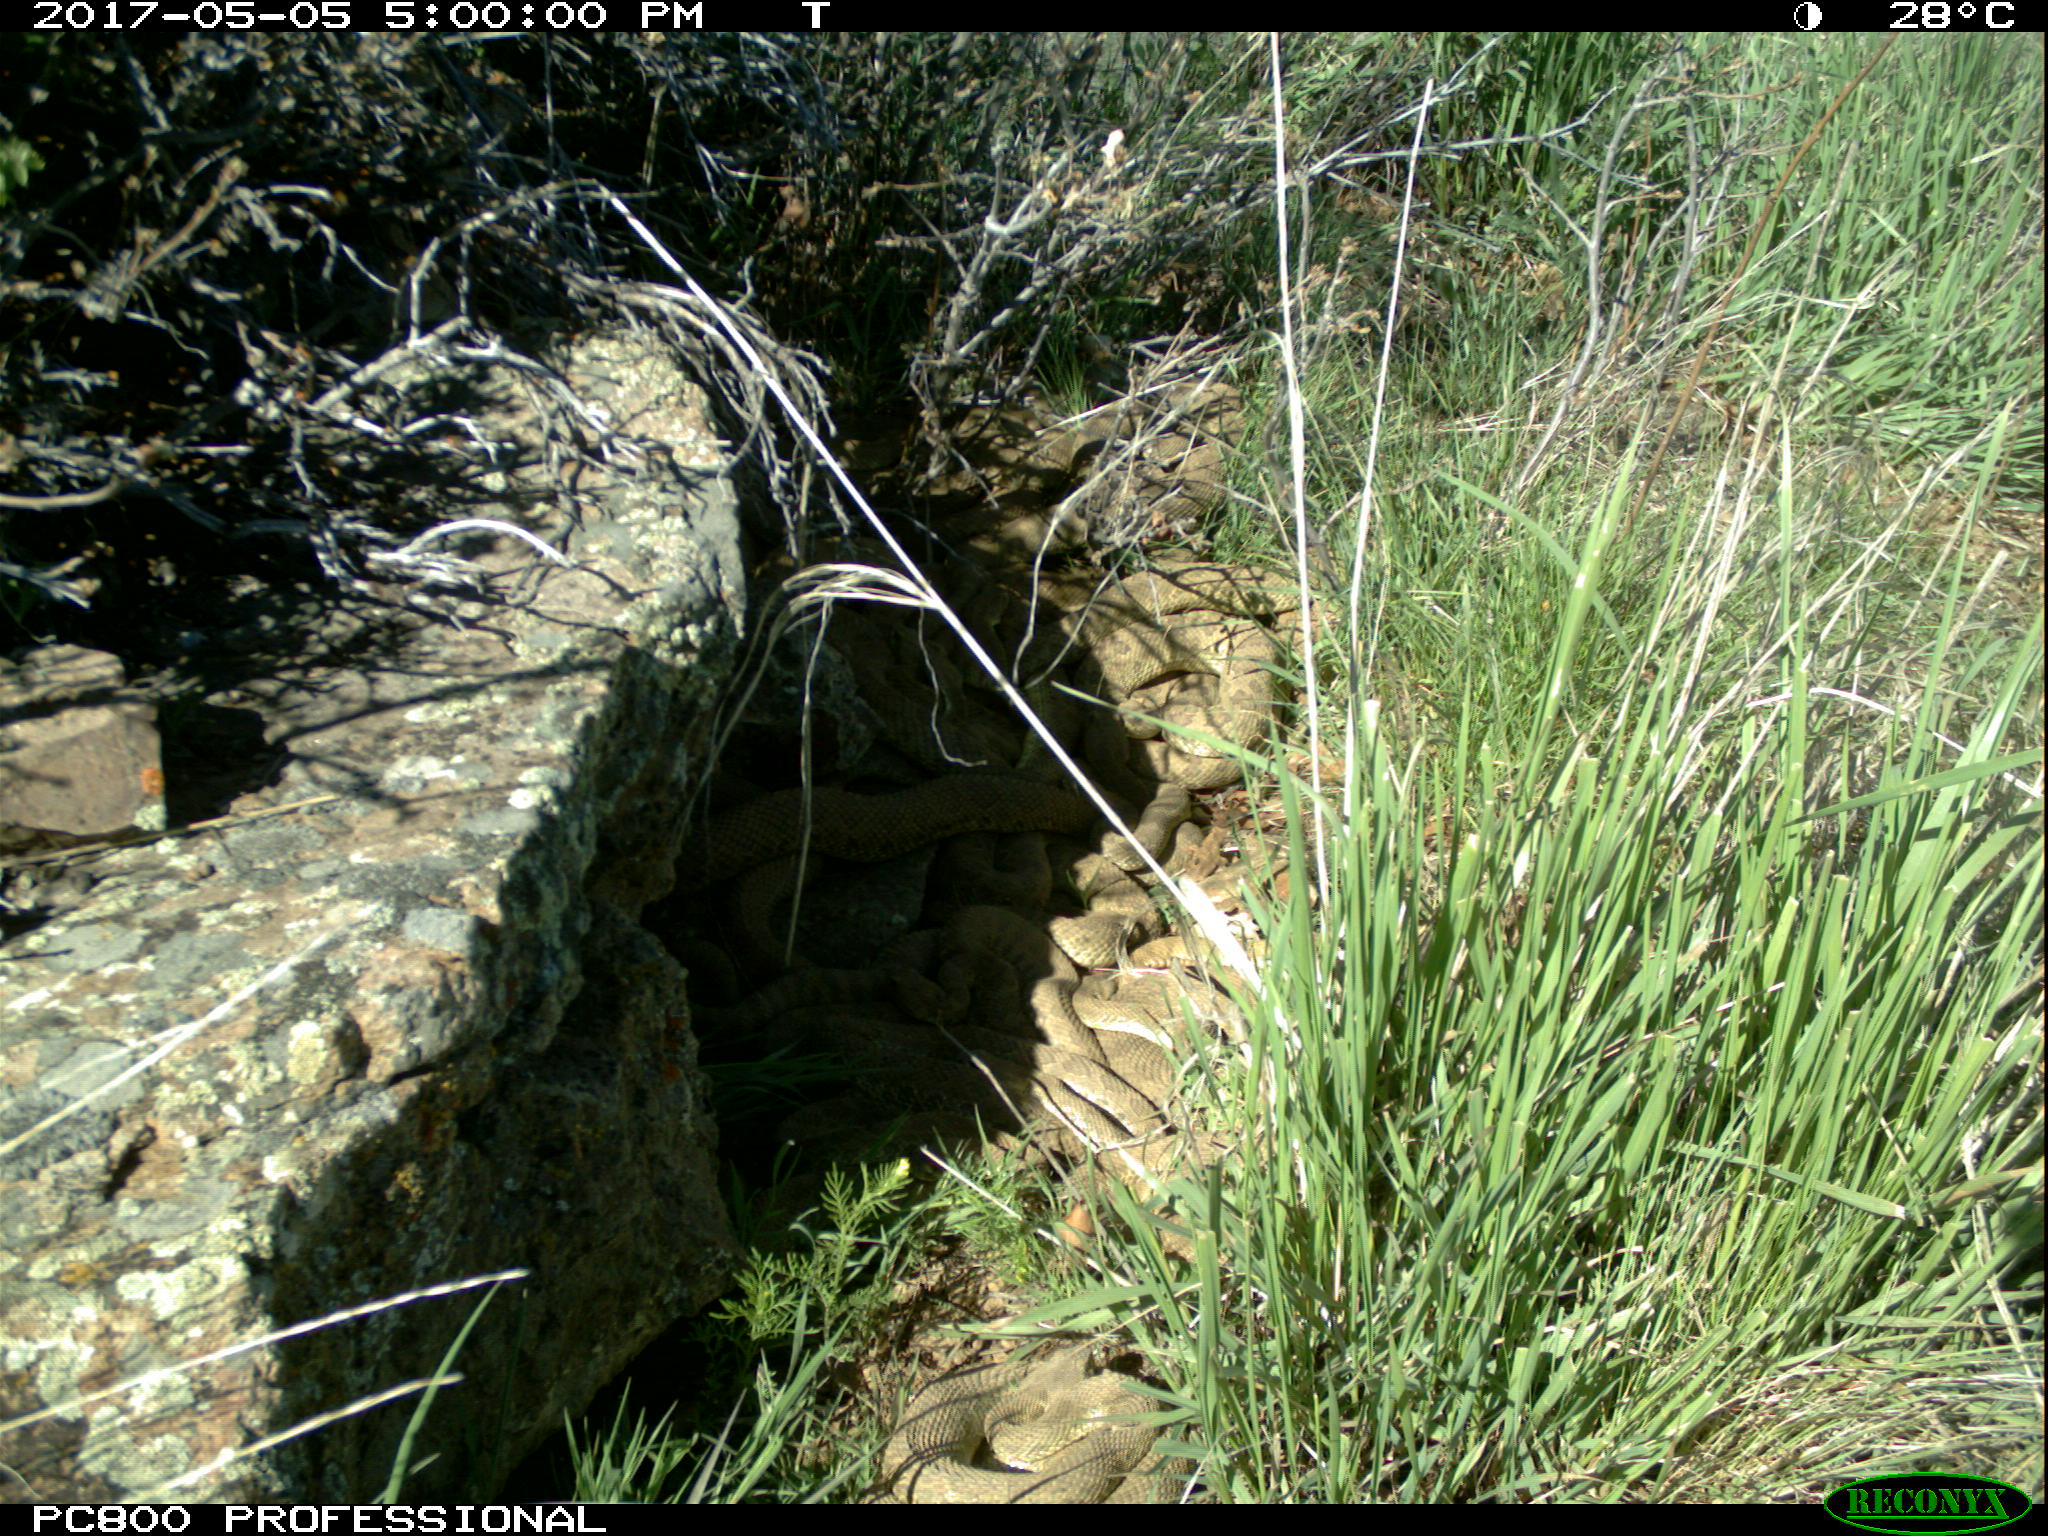snake: (708, 925, 1264, 1154), (724, 781, 1230, 936), (905, 400, 1268, 553), (1064, 576, 1343, 766), (869, 1349, 1192, 1505)
